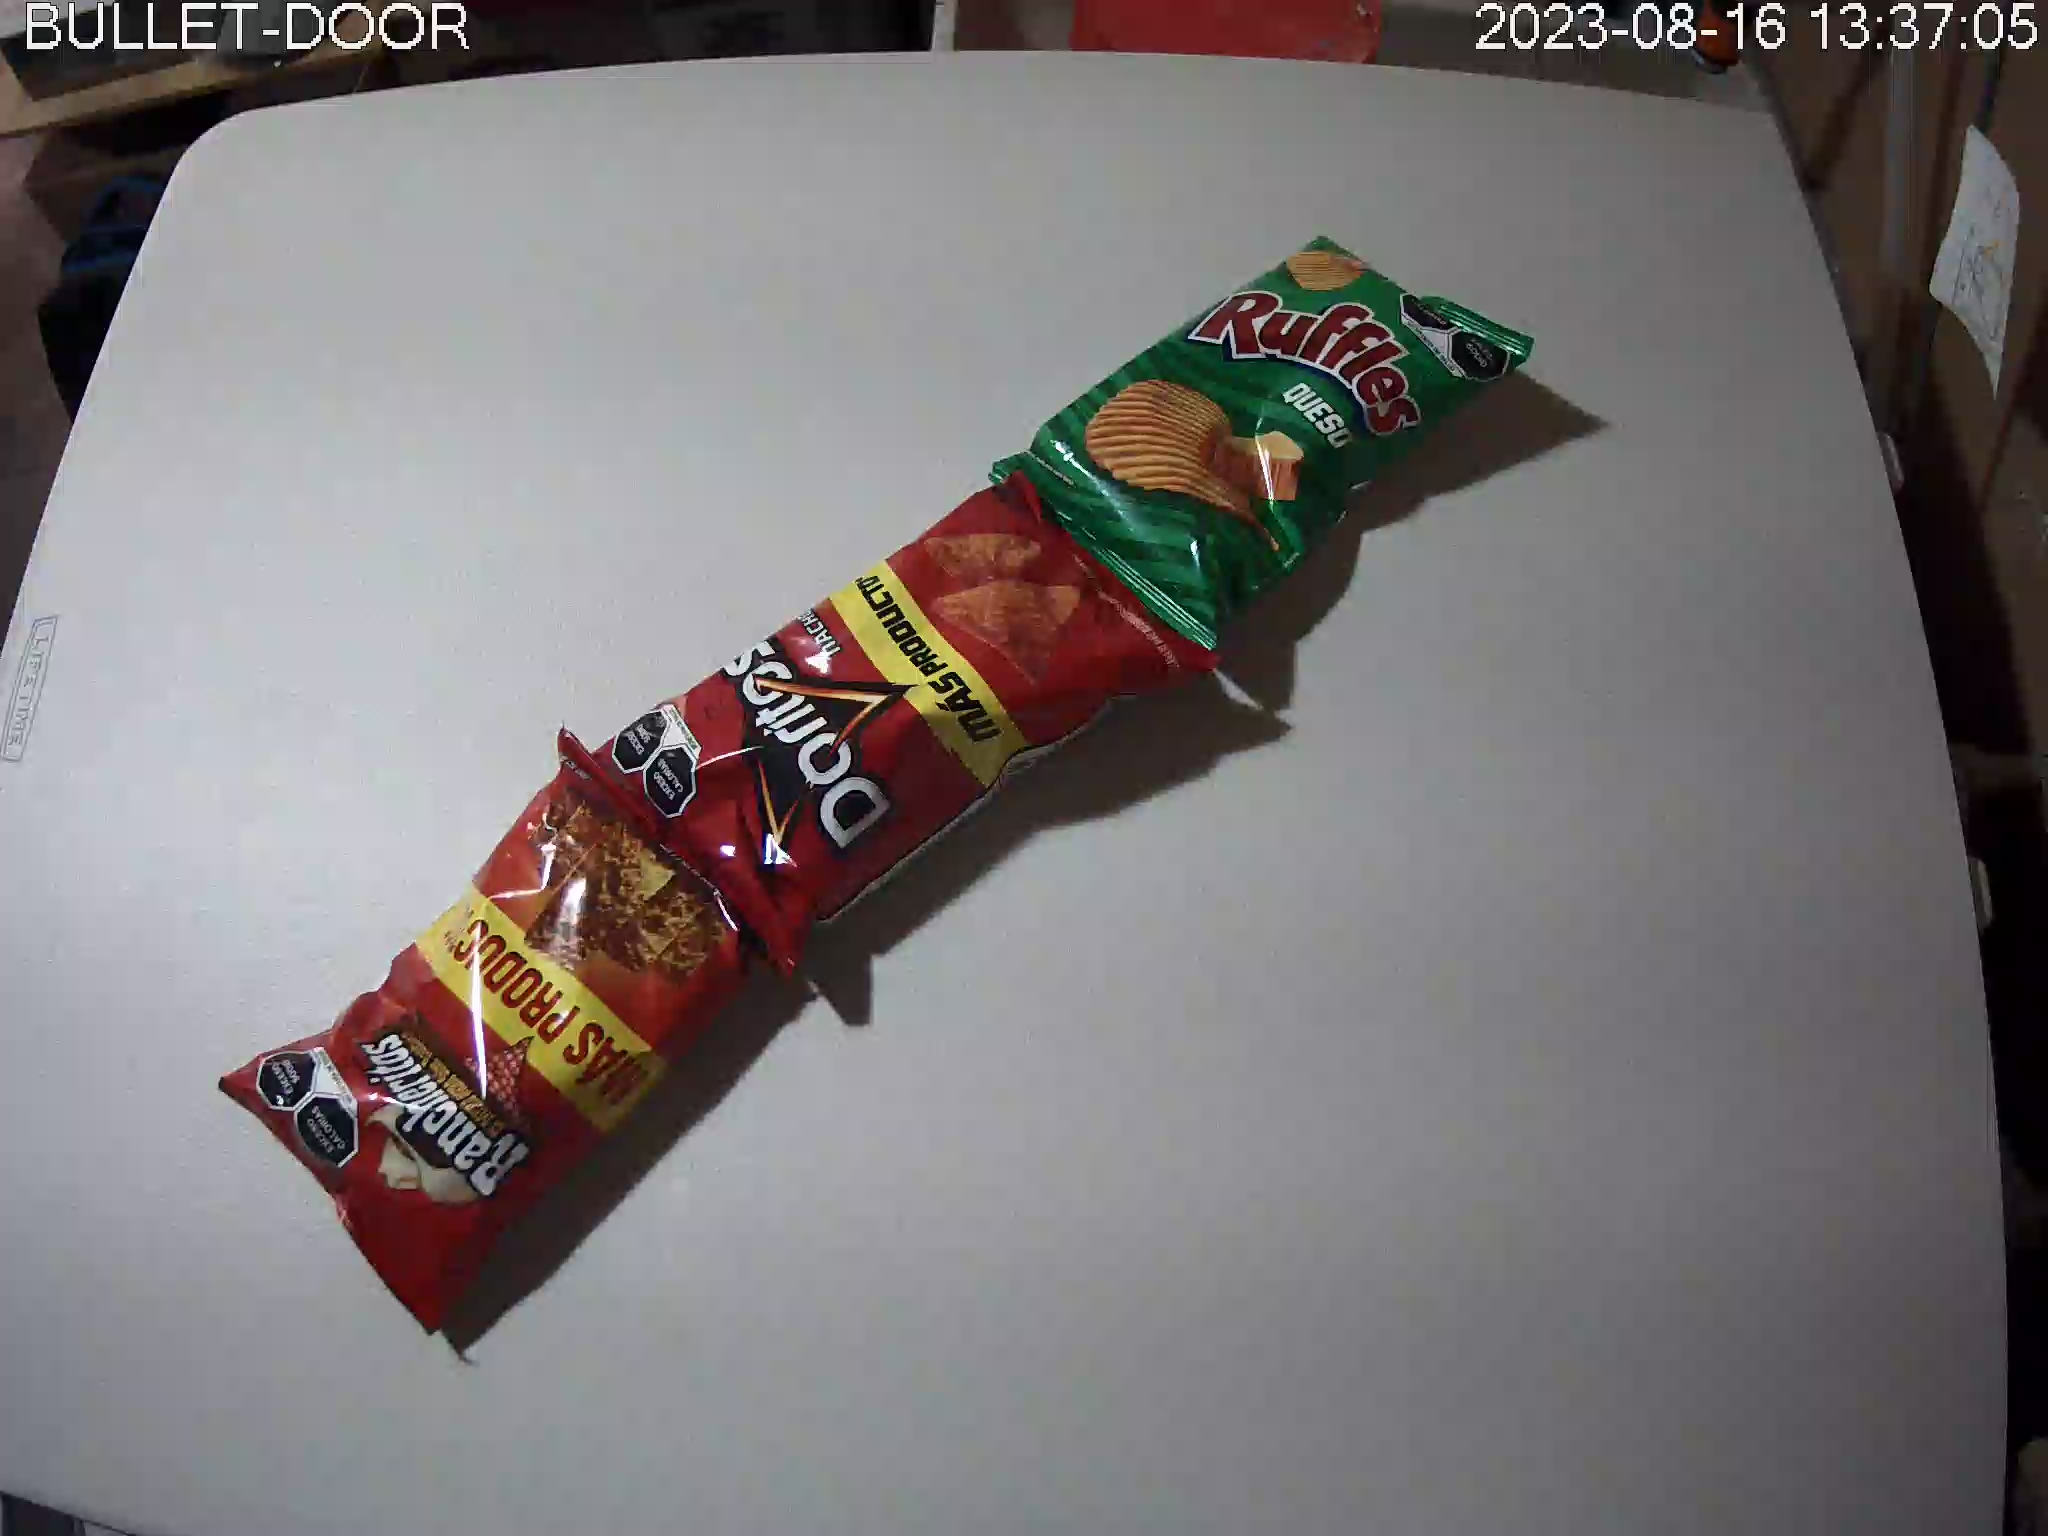DoritosN_61_F: (589, 465, 1224, 991)
Rancheritos_58_F: (218, 723, 801, 1341)
RufflesQ_48_F: (990, 232, 1537, 649)
